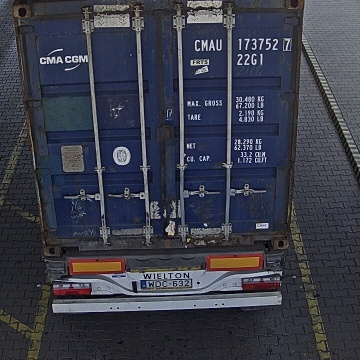serial_id: (194, 38, 292, 50)
